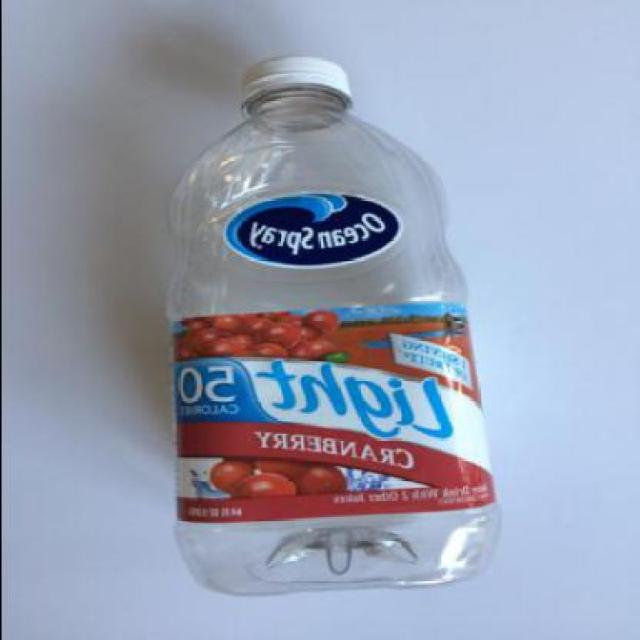PLASTIC: (163, 55, 500, 594), (234, 53, 348, 130)
